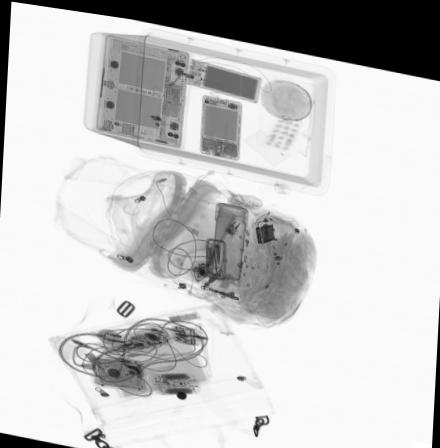Powerbank: (186, 50, 261, 95)
